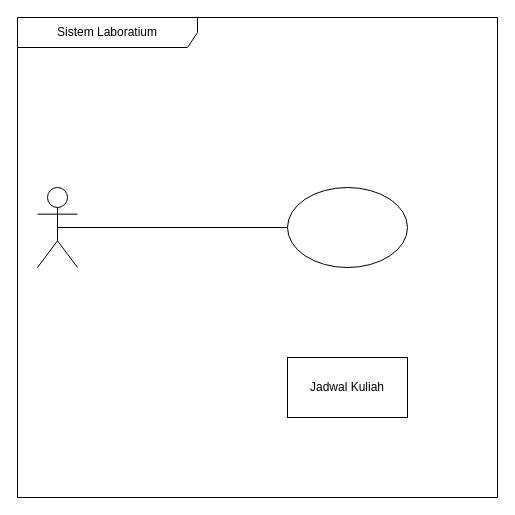
This 515x515 diagram has some shape labels left out. Here are the shapes that lost their labels. From the top down, the centre of each, then its label:
At [57,227]: "Mahasiswa".
At [347,227]: "Kelola Jadwal Kuliah".
